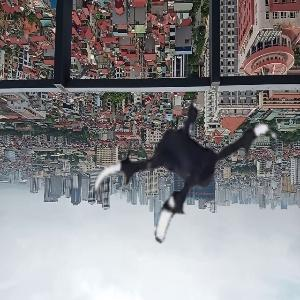drone: (89, 80, 283, 274)
